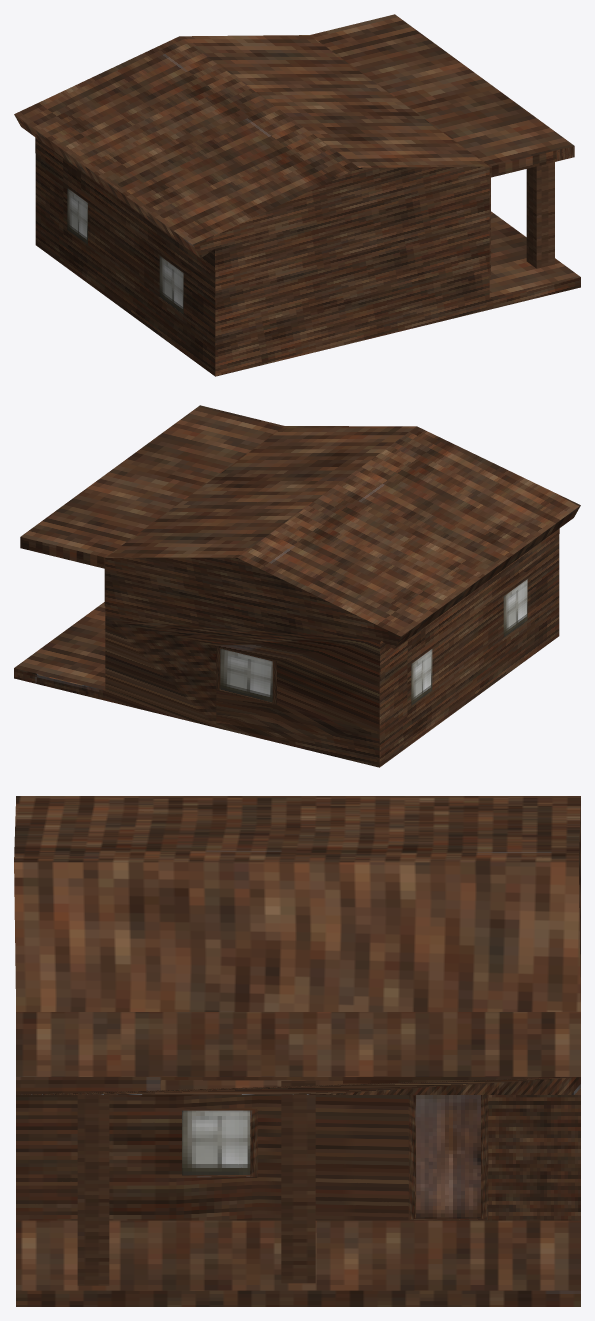
File: house.fbx
3 views of the same model, one above another, from view 1: azimuth 30°, elevation 25°; view 2: azimuth 150°, elevation 25°; view 3: azimuth 270°, elevation 25° (orthographic). The views are drawn at different scales.
Parts seen in each view (by area): view 1: Cube; view 2: Cube; view 3: Cube.
Part boxes in pixels (x1,y1,x2,y2): Cube: (14, 14, 580, 376); Cube: (14, 405, 580, 767); Cube: (14, 796, 580, 1306).
Size of the model in its own units: 1364 by 587 by 1101.
